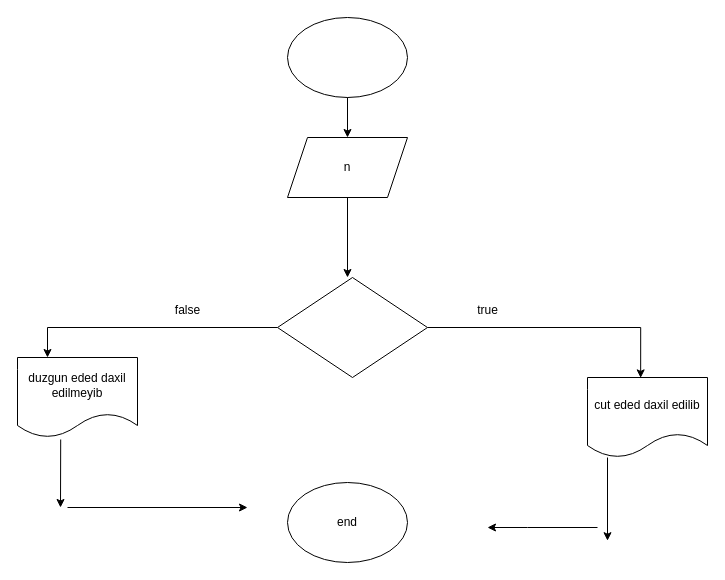
Image size: 725x580. Some labels were removed from this diagram. The shapes that lost their labels are listed below. From the top down, each one's centre as x and y in pixels, then its label:
(x=347, y=57): start
(x=352, y=327): n%2==0
